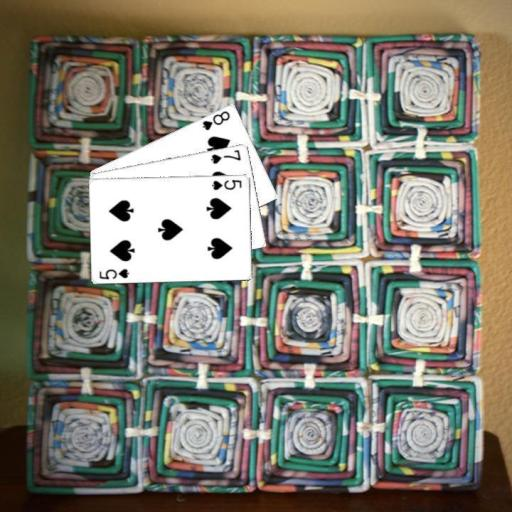card-corner: (199, 108, 232, 132), (208, 146, 242, 165), (209, 176, 243, 192), (97, 265, 131, 280)
